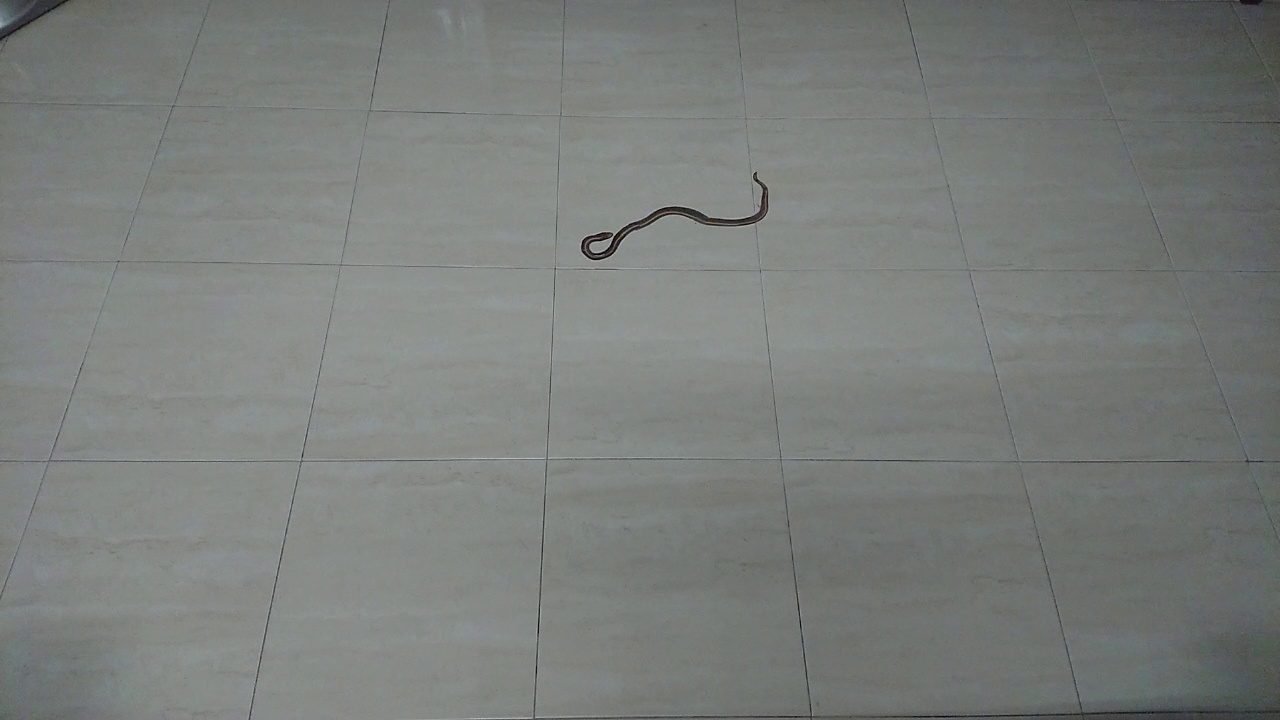snake: (568, 159, 781, 271)
